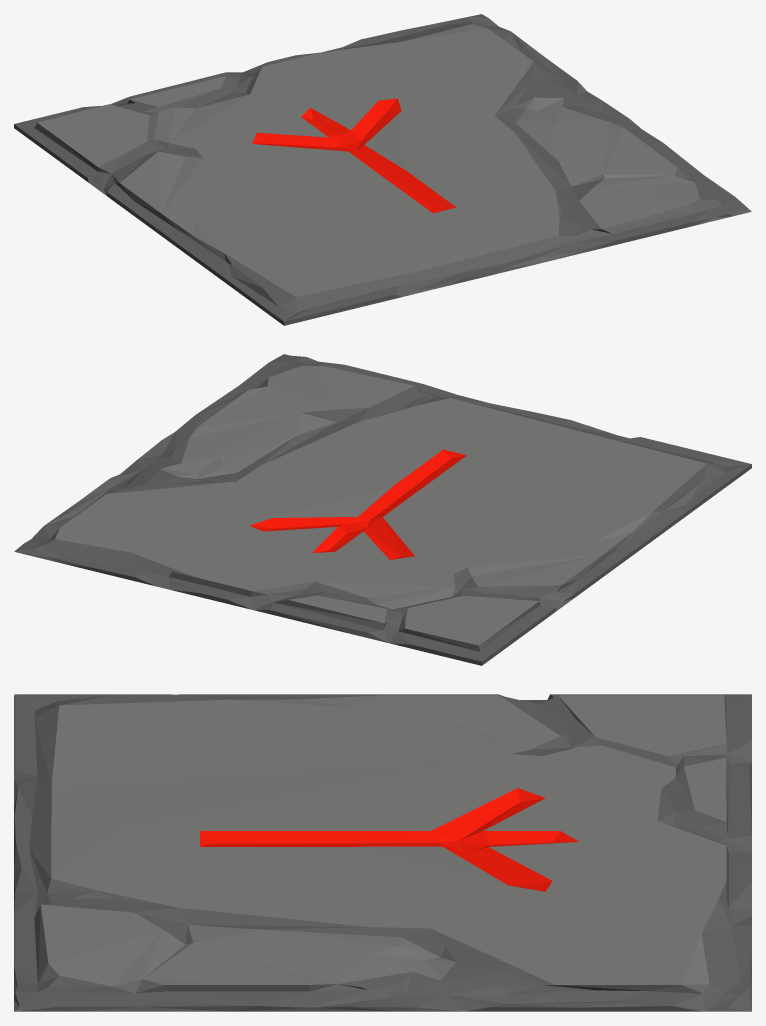
Rendered from SM_Env_Tiles_Rune_02.glb.
The picture shows the model from 3 angles, top to bottom: view 1: azimuth 30°, elevation 25°; view 2: azimuth 150°, elevation 25°; view 3: azimuth 270°, elevation 25°; orthographic projection. The views are drawn at different scales.
Visible parts, largest first — view 1: SM_Env_Tiles_Rune_02; view 2: SM_Env_Tiles_Rune_02; view 3: SM_Env_Tiles_Rune_02.
Part boxes in pixels (x1=…): SM_Env_Tiles_Rune_02: x1=14, y1=14, x2=751, y2=325; SM_Env_Tiles_Rune_02: x1=14, y1=354, x2=751, y2=665; SM_Env_Tiles_Rune_02: x1=14, y1=694, x2=751, y2=1011.
Size of the model in its own units: 0.05 by 0.00101 by 0.05.
Materials: 1 (1 with a texture image).
